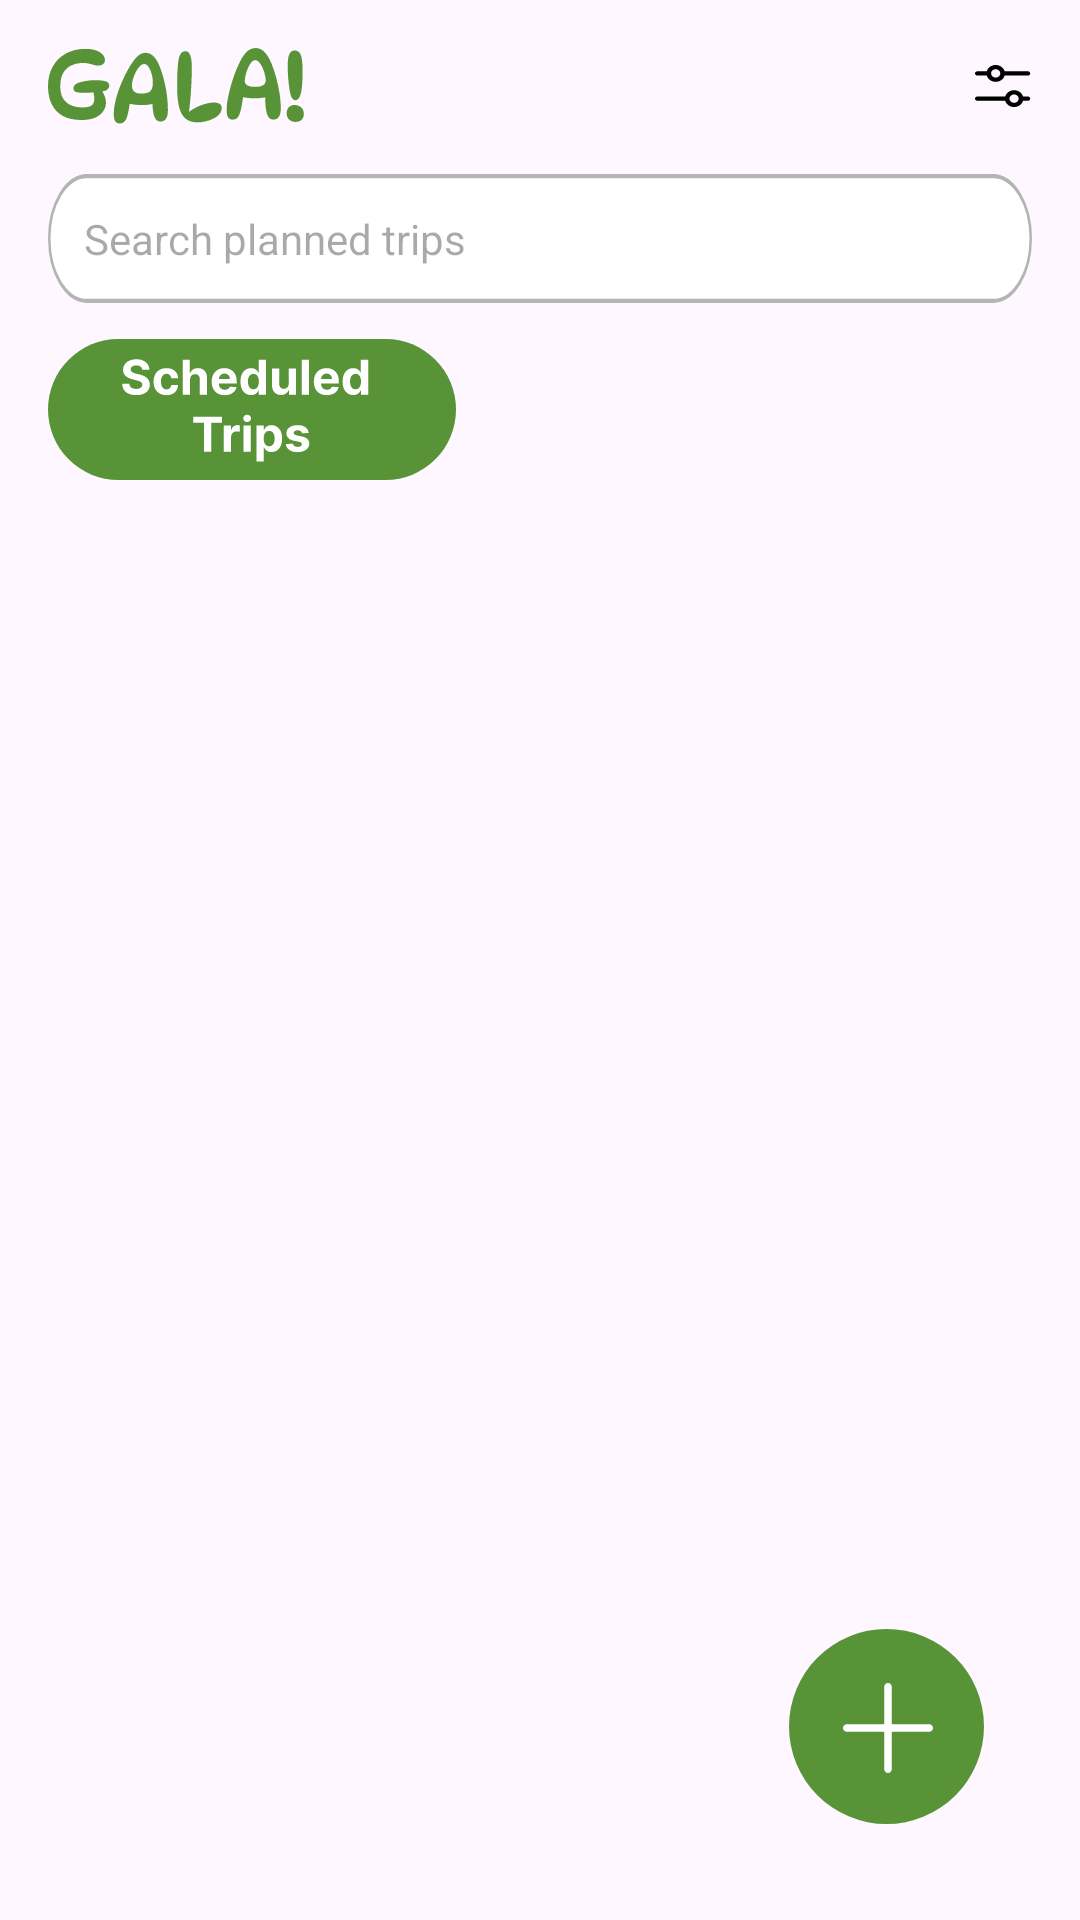

Point at icon controls on the screen. Image size 1080w x 1920h, points as (x,y).
addbtn: (886,1726)
Filter: (1003,86)
